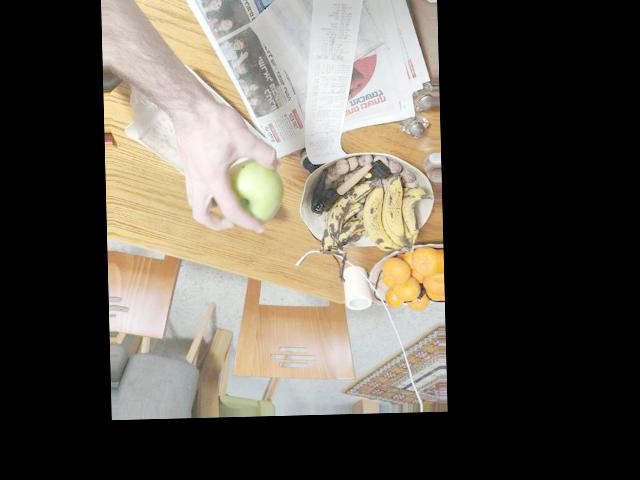apple: (215, 146, 281, 235)
